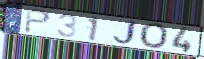1: (86, 16, 100, 43)
3: (57, 13, 78, 38)
4: (171, 26, 195, 54)
J: (111, 19, 138, 47)
O: (139, 23, 170, 51)
P: (24, 7, 52, 34)
